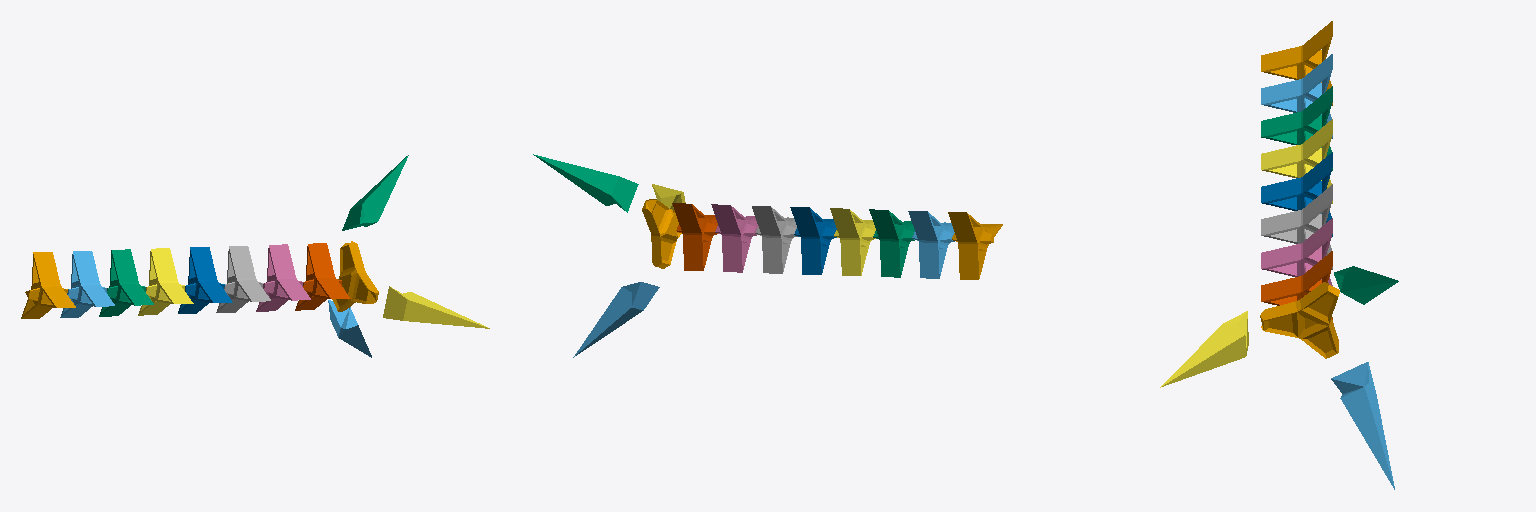
The robot description file, URDF, robot "octopus_arm":
<?xml version="1.0"?>
<robot name="octopus_arm">
  

  <link name="Plane_012">
    <visual>
      <origin xyz="0 -0.8 0.329081" rpy="0 0 0" />
      <geometry>
        <mesh filename="install/octopus_arm_env/share/octopus_arm_env/description/meshes/Plane_012_visual.obj" />
      </geometry>
    </visual>
    <collision>
      <origin xyz="0 0 0.329253" rpy="0 0 0" />
      <geometry>
        <mesh filename="install/octopus_arm_env/share/octopus_arm_env/description/meshes/Plane_012_collision.stl" scale="0.7 0.7 0.7" />
      </geometry>
    </collision>
    <inertial>
      <mass value="0.5" />
      <!-- Corrected: ixy set to 0 for symmetric link, izz >= ixx+iyy check passes -->
      <inertia ixx="0.005679" ixy="0.0" ixz="0.0" iyy="0.005952" iyz="0.0" izz="0.011631" />
    </inertial>
  </link>

  <link name="Plane_011">
    <visual>
      <origin xyz="0 -0.8 0.331472" rpy="0 0 0" />
      <geometry>
        <mesh filename="install/octopus_arm_env/share/octopus_arm_env/description/meshes/Plane_011_visual.obj" />
      </geometry>
    </visual>
    <collision>
      <origin xyz="0 0 0.331472" rpy="0 0 0" />
      <geometry>
        <mesh filename="install/octopus_arm_env/share/octopus_arm_env/description/meshes/Plane_011_collision.stl" scale="0.7 0.7 0.7" />
      </geometry>
    </collision>
    <inertial>
      <mass value="0.5" />
      <!-- Corrected: ixy set to 0, izz updated to satisfy triangle inequality -->
      <inertia ixx="0.005706" ixy="0.0" ixz="0.0" iyy="0.005994" iyz="0.0" izz="0.011700" />
    </inertial>
  </link>

  <link name="Plane_010">
    <visual>
      <origin xyz="0 -0.8 0.323041" rpy="0 0 0" />
      <geometry>
        <mesh filename="install/octopus_arm_env/share/octopus_arm_env/description/meshes/Plane_010_visual.obj" />
      </geometry>
    </visual>
    <collision>
      <origin xyz="0 0 0.323041" rpy="0 0 0" />
      <geometry>
        <mesh filename="install/octopus_arm_env/share/octopus_arm_env/description/meshes/Plane_010_collision.stl" scale="0.7 0.7 0.7" />
      </geometry>
    </collision>
    <inertial>
      <mass value="0.5" />
      <inertia ixx="0.005706" ixy="0.0" ixz="0.0" iyy="0.005994" iyz="0.0" izz="0.011700" />
    </inertial>
  </link>

  <link name="Plane_009">
    <visual>
      <origin xyz="0 -0.8 0.320932" rpy="0 0 0" />
      <geometry>
        <mesh filename="install/octopus_arm_env/share/octopus_arm_env/description/meshes/Plane_009_visual.obj" />
      </geometry>
    </visual>
    <collision>
      <origin xyz="0 0 0.321106" rpy="0 0 0" />
      <geometry>
        <mesh filename="install/octopus_arm_env/share/octopus_arm_env/description/meshes/Plane_009_collision.stl" scale="0.7 0.7 0.7" />
      </geometry>
    </collision>
    <inertial>
      <mass value="0.5" />
      <inertia ixx="0.005679" ixy="0.0" ixz="0.0" iyy="0.005952" iyz="0.0" izz="0.011631" />
    </inertial>
  </link>

  <link name="Plane_008">
    <visual>
      <origin xyz="0 -0.8 0.322138" rpy="0 0 0" />
      <geometry>
        <mesh filename="install/octopus_arm_env/share/octopus_arm_env/description/meshes/Plane_008_visual.obj" />
      </geometry>
    </visual>
    <collision>
      <origin xyz="0 0 0.322311" rpy="0 0 0" />
      <geometry>
        <mesh filename="install/octopus_arm_env/share/octopus_arm_env/description/meshes/Plane_008_collision.stl" scale="0.7 0.7 0.7" />
      </geometry>
    </collision>
    <inertial>
      <mass value="0.5" />
      <inertia ixx="0.005679" ixy="0.0" ixz="0.0" iyy="0.005952" iyz="0.0" izz="0.011631" />
    </inertial>
  </link>

  <link name="Plane_005">
    <visual>
      <origin xyz="0 -0.8 0.325485" rpy="0 0 0" />
      <geometry>
        <mesh filename="install/octopus_arm_env/share/octopus_arm_env/description/meshes/Plane_005_visual.obj" />
      </geometry>
    </visual>
    <collision>
      <origin xyz="0 0 0.325485" rpy="0 0 0" />
      <geometry>
        <mesh filename="install/octopus_arm_env/share/octopus_arm_env/description/meshes/Plane_005_collision.stl" scale="0.7 0.7 0.7" />
      </geometry>
    </collision>
    <inertial>
      <mass value="0.5" />
      <inertia ixx="0.005706" ixy="0.0" ixz="0.0" iyy="0.005994" iyz="0.0" izz="0.011700" />
    </inertial>
  </link>

  <link name="Plane_006">
    <visual>
      <origin xyz="0 -0.8 0.324365" rpy="0 0 0" />
      <geometry>
        <mesh filename="install/octopus_arm_env/share/octopus_arm_env/description/meshes/Plane_006_visual.obj" />
      </geometry>
    </visual>
    <collision>
      <origin xyz="0 0 0.324538" rpy="0 0 0" />
      <geometry>
        <mesh filename="install/octopus_arm_env/share/octopus_arm_env/description/meshes/Plane_006_collision.stl" scale="0.7 0.7 0.7" />
      </geometry>
    </collision>
    <inertial>
      <mass value="0.5" />
      <inertia ixx="0.005679" ixy="0.0" ixz="0.0" iyy="0.005952" iyz="0.0" izz="0.011631" />
    </inertial>
  </link>

  <link name="Plane_007">
    <visual>
      <origin xyz="0 -0.8 0.341837" rpy="0 0 0" />
      <geometry>
        <mesh filename="install/octopus_arm_env/share/octopus_arm_env/description/meshes/Plane_007_visual.obj" />
      </geometry>
    </visual>
    <collision>
      <origin xyz="0 0 0.341837" rpy="0 0 0" />
      <geometry>
        <mesh filename="install/octopus_arm_env/share/octopus_arm_env/description/meshes/Plane_007_collision.stl" scale="0.7 0.7 0.7" />
      </geometry>
    </collision>
    <inertial>
      <mass value="0.5" />
      <inertia ixx="0.005706" ixy="0.0" ixz="0.0" iyy="0.005994" iyz="0.0" izz="0.011700" />
    </inertial>
  </link>

  <link name="Plane_001">
    <visual>
      <origin xyz="0 -0.8 -0.019984" rpy="0 0 0" />
      <geometry>
        <mesh filename="install/octopus_arm_env/share/octopus_arm_env/description/meshes/Plane_001_visual.obj" scale="0.7 0.7 0.7" />
      </geometry>
    </visual>
    <collision>
      <origin xyz="0 -0.8 -0.019984" rpy="0 0 0" />
      <geometry>
        <mesh filename="install/octopus_arm_env/share/octopus_arm_env/description/meshes/Plane_001_collision.stl" scale="0.7 0.7 0.7" />
      </geometry>
    </collision>
    <inertial>
      <mass value="0.5" />
      <!-- Plane_001 is the base hub — asymmetric, off-axis products kept but clamped to physical limits -->
      <inertia ixx="0.011841" ixy="0.000386" ixz="-0.0031" iyy="0.01139" iyz="-0.0019" izz="0.021898" />
    </inertial>
  </link>

  <link name="Plane_002">
    <visual>
      <origin xyz="0.009247 0.284552 0.530499" rpy="0 0 1.049861" />
      <geometry>
        <mesh filename="install/octopus_arm_env/share/octopus_arm_env/description/meshes/Plane_002_visual.obj" scale="0.7 0.7 0.7"/>
      </geometry>
    </visual>
    <collision>
      <origin xyz="0.018361 0.444701 0.530499" rpy="0 0 0" />
      <geometry>
        <mesh filename="install/octopus_arm_env/share/octopus_arm_env/description/meshes/Plane_002_collision.stl" scale="0.7 0.7 0.7" />
      </geometry>
    </collision>
    <inertial>
      <mass value="0.5" />
      <!-- Off-axis products preserved — asymmetric fin link -->
      <inertia ixx="0.018382" ixy="0.0048" ixz="0.0039" iyy="0.011416" iyz="-0.008076" izz="0.021898" />
    </inertial>
  </link>

  <link name="Plane_004">
    <visual>
      <origin xyz="0.047811 0.257522 0.565407" rpy="0 0 -1.081017" />
      <geometry>
        <mesh filename="install/octopus_arm_env/share/octopus_arm_env/description/meshes/Plane_004_visual.obj" scale="0.7 0.7 0.7"/>
      </geometry>
    </visual>
    <collision>
      <origin xyz="0.009545 0.400164 0.565408" rpy="0 0 0" />
      <geometry>
        <mesh filename="install/octopus_arm_env/share/octopus_arm_env/description/meshes/Plane_004_collision.stl" scale="0.7 0.7 0.7" />
      </geometry>
    </collision>
    <inertial>
      <mass value="0.5" />
      <inertia ixx="0.017967" ixy="-0.0042" ixz="-0.00523" iyy="0.01141" iyz="-0.007777" izz="0.021898" />
    </inertial>
  </link>

  <link name="Plane_003">
    <visual>
      <origin xyz="0.000218 0.208122 0.570597" rpy="0 0 -3.141592" />
      <geometry>
        <mesh filename="install/octopus_arm_env/share/octopus_arm_env/description/meshes/Plane_003_visual.obj" scale="0.7 0.7 0.7"/>
      </geometry>
    </visual>
    <collision>
      <origin xyz="0.000218 0.308122 0.570597" rpy="0 0 0" />
      <geometry>
        <mesh filename="install/octopus_arm_env/share/octopus_arm_env/description/meshes/Plane_003_collision.stl" scale="0.7 0.7 0.7" />
      </geometry>
    </collision>
    <inertial>
      <mass value="0.5" />
      <inertia ixx="0.017975" ixy="0.000225" ixz="0.000266" iyy="0.011369" iyz="-0.007782" izz="0.021898" />
    </inertial>
  </link>

  <link name="world"/>

  

  <joint name="world_joint" type="fixed">
    <parent link="world"/>
    <child link="Plane_012"/>
    <origin xyz="0.0 0 5.0" rpy="0 1.7708 0"/>
  </joint>

  <!-- Plane_012_joint commented out in original — left as-is -->

  <joint name="Plane_011_joint" type="revolute">
    <origin xyz="0 0 0.666345" rpy="0 0 0" />
    <parent link="Plane_012" />
    <child link="Plane_011" />
    <axis xyz="1 0 0" />
    <limit effort="10" velocity="1" lower="-3.141593" upper="3.141593" />
    <!-- Increased damping for stable soft-arm simulation; friction raised to prevent slip -->
    <dynamics damping="10.0" friction="0.5"/>
  </joint>

  <joint name="Plane_010_joint" type="revolute">
    <origin xyz="0 0 0.666340" rpy="0 0 0" />
    <parent link="Plane_011" />
    <child link="Plane_010" />
    <axis xyz="0 1 0" />
    <limit effort="10" velocity="1" lower="-3.141593" upper="3.141593" />
    <dynamics damping="10.0" friction="0.5"/>
  </joint>

  <joint name="Plane_009_joint" type="revolute">
    <origin xyz="0 0 0.666349" rpy="0 0 0" />
    <parent link="Plane_010" />
    <child link="Plane_009" />
    <axis xyz="1 0 0" />
    <limit effort="10" velocity="1" lower="-3.141593" upper="3.141593" />
    <dynamics damping="10.0" friction="0.5"/>
  </joint>

  <joint name="Plane_008_joint" type="revolute">
    <origin xyz="0 0 0.666343" rpy="0 0 0" />
    <parent link="Plane_009" />
    <child link="Plane_008" />
    <axis xyz="0 1 0" />
    <limit effort="10" velocity="1" lower="-3.141593" upper="3.141593" />
    <dynamics damping="10.0" friction="0.5"/>
  </joint>

  <joint name="Plane_007_joint" type="revolute">
    <origin xyz="0 0 0.637648" rpy="0 0 0" />
    <parent link="Plane_008" />
    <child link="Plane_007" />
    <axis xyz="1 0 0" />
    <limit effort="10" velocity="1" lower="-3.141593" upper="3.141593" />
    <dynamics damping="10.0" friction="0.5"/>
  </joint>

  <joint name="Plane_006_joint" type="revolute">
    <origin xyz="0 0 0.695047" rpy="0 0 0" />
    <parent link="Plane_007" />
    <child link="Plane_006" />
    <axis xyz="0 1 0" />
    <limit effort="10" velocity="1" lower="-3.141593" upper="3.141593" />
    <dynamics damping="10.0" friction="0.5"/>
  </joint>

  <joint name="Plane_005_joint" type="revolute">
    <origin xyz="0 0 0.659045" rpy="0 0 0" />
    <parent link="Plane_006" />
    <child link="Plane_005" />
    <axis xyz="1 0 0" />
    <limit effort="10" velocity="1" lower="-3.141593" upper="3.141593" />
    <dynamics damping="10.0" friction="0.5"/>
  </joint>

  <joint name="Plane_001_joint" type="fixed">
    <origin xyz="0 0.8 0.866191" rpy="0 0 0" />
    <parent link="Plane_005" />
    <child link="Plane_001" />
    <dynamics damping="10.0" friction="0.5"/>
  </joint>

  <joint name="Plane_002_joint" type="revolute">
    <origin xyz="0.693168 -0.198533 0.029878" rpy="0 0 -1.047411" />
    <parent link="Plane_001" />
    <child link="Plane_002" />
    <axis xyz="1 0 0" />
    <limit effort="10" velocity="1" lower="-3.141593" upper="3.141593" />
    <!-- Fin/tentacle tip joints: slightly less damping for natural tip motion -->
    <dynamics damping="10.0" friction="0.5"/>
  </joint>

  <joint name="Plane_004_joint" type="revolute">
    <origin xyz="-0.68624 -0.20569 0.003387" rpy="0 0 1.047385" />
    <parent link="Plane_001" />
    <child link="Plane_004" />
    <axis xyz="1 0 0" />
    <limit effort="10" velocity="1" lower="-3.141593" upper="3.141593" />
    <dynamics damping="10.0" friction="0.5"/>
  </joint>

  <joint name="Plane_003_joint" type="revolute">
    <origin xyz="0.020116 -1.511002 0.009412" rpy="0 0 -3.141592" />
    <parent link="Plane_001" />
    <child link="Plane_003" />
    <axis xyz="1 0 0" />
    <limit effort="10" velocity="1" lower="-3.141593" upper="3.141593" />
    <dynamics damping="10.0" friction="0.5"/>
  </joint>

  <link name="camera_depth_frame">
    <visual>
      <origin xyz="0 0 0" rpy="0 0 0"/>
      <geometry>
        <box size="0.01 0.01 0.01"/>
      </geometry>
      <material name="blue">
        <color rgba="0 0 1 1"/>
      </material>
    </visual>
  </link>
  
  <joint name="camera_depth_joint" type="fixed">
    <origin xyz="0.05 -0.6 0.05" rpy="0 -1.57 0"/>
    <parent link="Plane_001"/>
    <child link="camera_depth_frame"/>
  </joint>

  <link name="camera_rgb_frame">
    <visual>
      <origin xyz="0 0 0" rpy="0 0 0"/>
      <geometry>
        <box size="0.01 0.01 0.01"/>
      </geometry>
      <material name="blue">
        <color rgba="0 0 1 1"/>
      </material>
    </visual>
  </link>

  <joint name="camera_rgb_joint" type="fixed">
    <origin xyz="0.05 -0.6 0.05" rpy="0 -1.57 0"/>
    <parent link="Plane_001"/>
    <child link="camera_rgb_frame"/>
  </joint>

  <ros2_control name="GazeboSystem" type="system">
    <hardware>
      <plugin>gazebo_ros2_control/GazeboSystem</plugin>
    </hardware>
    <joint name="Plane_002_joint"><command_interface name="position" /><state_interface name="position" /><state_interface name="velocity" /></joint>
    <joint name="Plane_003_joint"><command_interface name="position" /><state_interface name="position" /><state_interface name="velocity" /></joint>
    <joint name="Plane_005_joint"><command_interface name="position" /><state_interface name="position" /><state_interface name="velocity" /></joint>
    <joint name="Plane_006_joint"><command_interface name="position" /><state_interface name="position" /><state_interface name="velocity" /></joint>
    <joint name="Plane_007_joint"><command_interface name="position" /><state_interface name="position" /><state_interface name="velocity" /></joint>
    <joint name="Plane_008_joint"><command_interface name="position" /><state_interface name="position" /><state_interface name="velocity" /></joint>
    <joint name="Plane_009_joint"><command_interface name="position" /><state_interface name="position" /><state_interface name="velocity" /></joint>
    <joint name="Plane_010_joint"><command_interface name="position" /><state_interface name="position" /><state_interface name="velocity" /></joint>
    <joint name="Plane_011_joint"><command_interface name="position" /><state_interface name="position" /><state_interface name="velocity" /></joint>
    <joint name="Plane_004_joint"><command_interface name="position" /><state_interface name="position" /><state_interface name="velocity" /></joint>
  </ros2_control>

  <gazebo>
    <plugin name="gazebo_ros2_control" filename="libgazebo_ros2_control.so">
      <robot_sim_type>gazebo_ros2_control/GazeboSystem</robot_sim_type>
      <parameters>install/octopus_arm_env/share/octopus_arm_env/config/controller_manager.yaml</parameters>
    </plugin>
  </gazebo>

  <gazebo reference="camera_rgb_frame">
    <sensor name="rgb_camera" type="camera">
      <always_on>true</always_on>
      <update_rate>10</update_rate>
      <visualize>true</visualize>
      <camera name="head1">
        <horizontal_fov>1.089</horizontal_fov>
        <image>
          <width>512</width>
          <height>512</height>
          <format>R8G8B8</format>
        </image>
        <clip>
          <near>0.05</near>
          <far>8.0</far>
        </clip>
      </camera>
      <plugin name="camera_controller" filename="libgazebo_ros_camera.so">
        <ros>
          <namespace>octopus</namespace>
          <remapping>image_raw:=image_raw</remapping>
          <remapping>camera_info:=camera_info</remapping>
        </ros>
        <camera_name>rgb_cam</camera_name>
        <frame_name>camera_rgb_frame</frame_name>
        <hack_baseline>0.07</hack_baseline>
      </plugin>
    </sensor>
  </gazebo>

  <gazebo reference="camera_depth_frame">
    <sensor name="DepthCamN" type="depth">
      <always_on>true</always_on>
      <update_rate>10</update_rate> 
      <visualize>true</visualize>
      <pose>0.00268 0.001651 0.220087 0 0 0</pose>
      <camera name="head2">
        <horizontal_fov>1.047</horizontal_fov>
        <image>
          <width>512</width>
          <height>512</height>
          <format>R8G8B8</format>
        </image>
        <clip>
          <near>0.001</near>
          <far>10.0</far>
        </clip>
      </camera>
      <plugin name="depth_camera_controller" filename="libgazebo_ros_camera.so">
        <ros>
          <namespace>octopus</namespace>
        </ros>
        <camera_name>depth_cam</camera_name>
        <frame_name>camera_depth_frame</frame_name>
        <hack_baseline>0.07</hack_baseline>
        <min_depth>0.1</min_depth>
        <max_depth>10.0</max_depth>
      </plugin>
    </sensor>
  </gazebo>

</robot>

--- What the picture shows (computed from the rendered views, not written in the file) ---
Views: 3 orthographic renders of the robot side by side, from view 1: azimuth 30°, elevation 25°; view 2: azimuth 150°, elevation 25°; view 3: azimuth 270°, elevation 25°.
Robot: octopus_arm — 15 links, 14 joints (10 revolute, 4 fixed); root link world; default pose: every joint at zero.
Links seen in each view (by area): view 1: Plane_012, Plane_003, Plane_006, Plane_008, Plane_011, Plane_009, Plane_005, Plane_010, Plane_007, Plane_001, Plane_004, Plane_002; view 2: Plane_004, Plane_012, Plane_006, Plane_008, Plane_011, Plane_009, Plane_005, Plane_007, Plane_010, Plane_002, Plane_001; view 3: Plane_001, Plane_002, Plane_003, Plane_007, Plane_012, Plane_009, Plane_010, Plane_011, Plane_008, Plane_006, Plane_005, Plane_004.
Link boxes in pixels (bbox=[...]): Plane_012: bbox=[21, 252, 75, 318]; Plane_003: bbox=[383, 286, 489, 328]; Plane_006: bbox=[256, 244, 310, 311]; Plane_008: bbox=[178, 247, 232, 313]; Plane_011: bbox=[60, 251, 114, 317]; Plane_009: bbox=[138, 248, 193, 315]; Plane_005: bbox=[295, 243, 350, 310]; Plane_010: bbox=[99, 249, 153, 316]; Plane_007: bbox=[216, 246, 270, 312]; Plane_001: bbox=[332, 241, 378, 311]; Plane_004: bbox=[342, 155, 408, 230]; Plane_002: bbox=[328, 300, 371, 357]; Plane_004: bbox=[533, 154, 638, 212]; Plane_012: bbox=[948, 212, 1002, 279]; Plane_006: bbox=[711, 204, 758, 272]; Plane_008: bbox=[790, 207, 836, 274]; Plane_011: bbox=[908, 211, 954, 278]; Plane_009: bbox=[830, 208, 875, 275]; Plane_005: bbox=[672, 203, 717, 270]; Plane_007: bbox=[752, 206, 797, 273]; Plane_010: bbox=[869, 209, 914, 277]; Plane_002: bbox=[573, 282, 659, 357]; Plane_001: bbox=[642, 199, 681, 268]; Plane_001: bbox=[1260, 282, 1339, 358]; Plane_002: bbox=[1331, 362, 1394, 489]; Plane_003: bbox=[1160, 311, 1248, 387]; Plane_007: bbox=[1261, 184, 1332, 269]; Plane_012: bbox=[1261, 21, 1332, 105]; Plane_009: bbox=[1261, 119, 1332, 203]; Plane_010: bbox=[1261, 86, 1332, 170]; Plane_011: bbox=[1261, 54, 1332, 138]; Plane_008: bbox=[1261, 152, 1332, 236]; Plane_006: bbox=[1261, 218, 1332, 285]; Plane_005: bbox=[1261, 251, 1332, 319]; Plane_004: bbox=[1334, 266, 1398, 304].
Bounding box of the posed robot: 7 × 2.88 × 3.41 m (x, y, z).
Meshes: 12 distinct files referenced, 12 mesh visuals loaded (12 OBJ).
